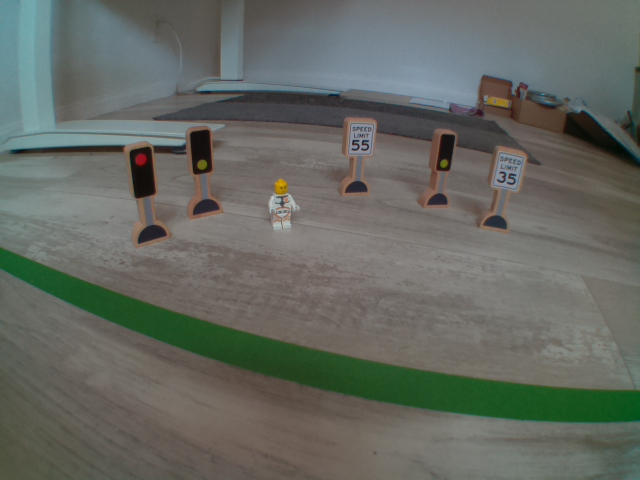Green Traffic Light: (181, 126, 220, 179), (432, 130, 461, 173)
Red Traffic Light: (123, 140, 162, 201)
Speed Limit 35: (492, 142, 526, 193)
Speed Limit 55: (338, 112, 377, 164)
person: (260, 174, 310, 240)
